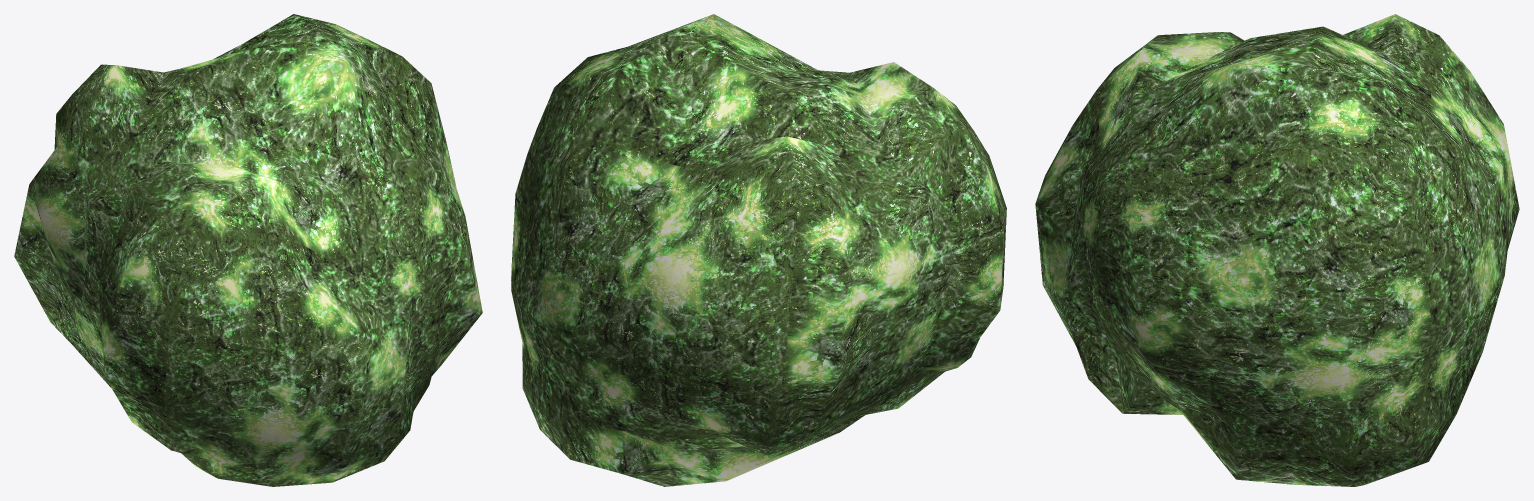
Rendered from asteroid_acid_small_s02_l0.fbx.
3 views of the same model, side by side, from view 1: azimuth 30°, elevation 25°; view 2: azimuth 150°, elevation 25°; view 3: azimuth 270°, elevation 25° (orthographic). The views are drawn at different scales.
Visible parts, largest first — view 1: mesh_node; view 2: mesh_node; view 3: mesh_node.
Boxes of the visible parts, x1,y1,x2,y2 form: mesh_node: (14, 14, 482, 486); mesh_node: (511, 14, 1006, 486); mesh_node: (1035, 14, 1519, 486).
Bounding box in the file's own units: 25.02 × 24.26 × 25.97.
